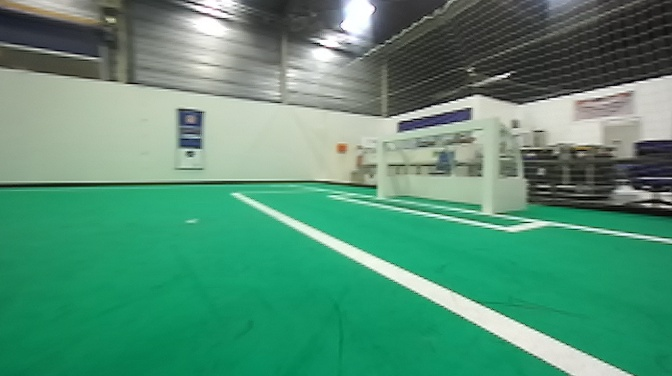goalpost: (476, 118, 502, 217), (375, 132, 387, 199)
